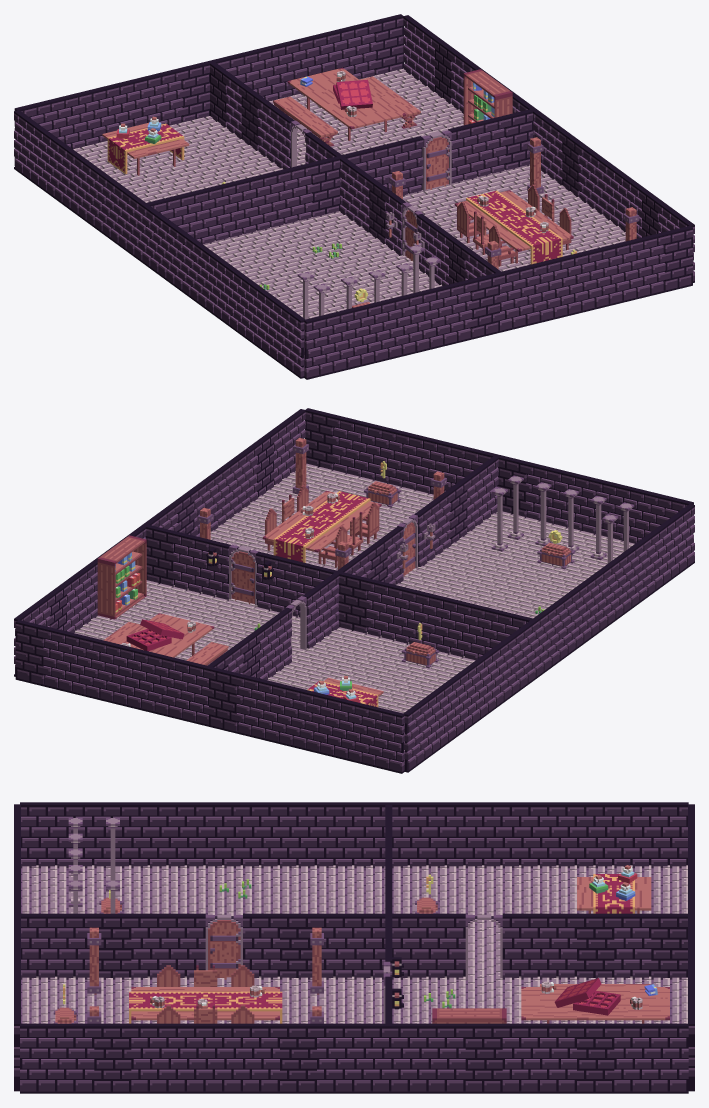
Rendered from doors-and-keys.glb.
The picture shows the model from 3 angles, top to bottom: view 1: azimuth 30°, elevation 25°; view 2: azimuth 150°, elevation 25°; view 3: azimuth 270°, elevation 25°; orthographic projection. The views are drawn at different scales.
Parts seen in each view (by area): view 1: GN Instance (×87), door 1; view 2: GN Instance (×84), door 1; view 3: GN Instance (×131), door 2.
Part boxes in pixels (<box>): GN Instance (×87): <box>14,14,692,379</box>; door 1: <box>426,137,449,189</box>; GN Instance (×84): <box>15,408,694,773</box>; door 1: <box>231,551,254,604</box>; GN Instance (×131): <box>14,802,694,1093</box>; door 2: <box>208,920,240,979</box>.
Size of the model in its own units: 28.58 by 4.4 by 36.68.
Materials: 30 (30 with a texture image).
